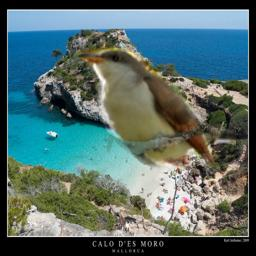Cuckoo: (71, 36, 236, 172)
